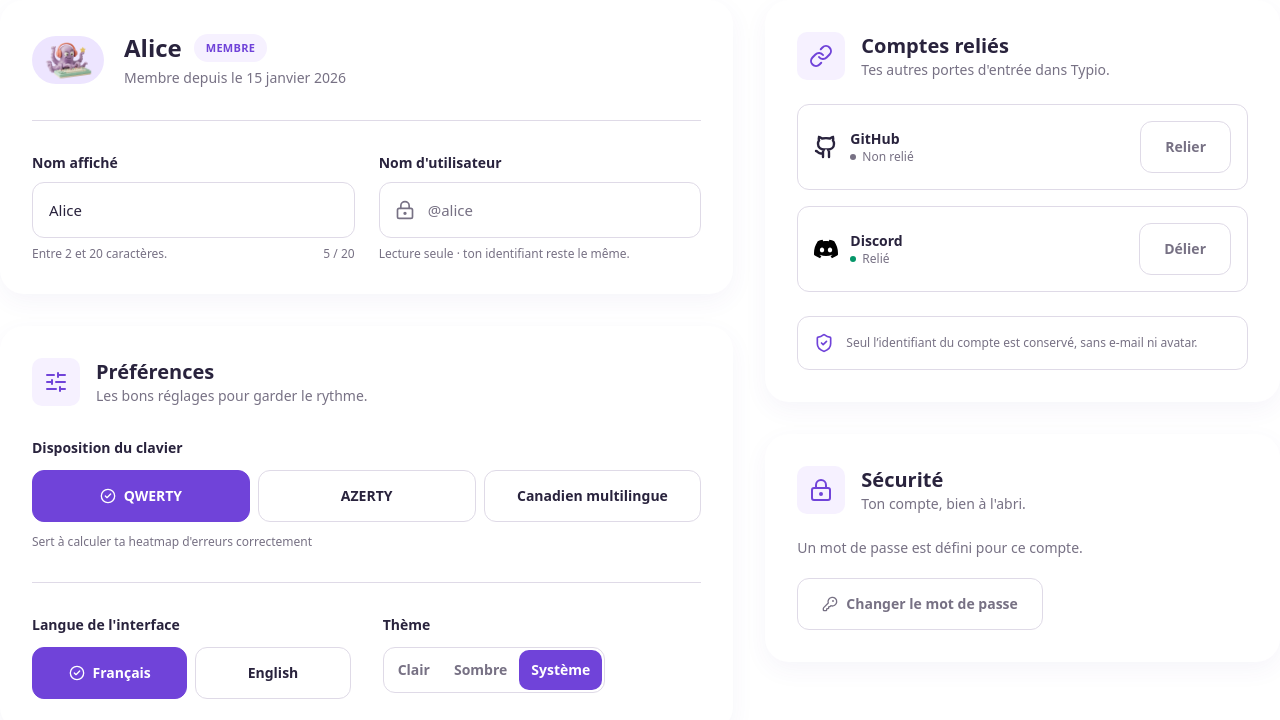
Test case: ProfileForm (fr) › un choix exclusif remplace le précédent (un seul radio coché par groupe)
Click the radio button labelled "AZERTY".
click(367, 496)  # box [258,470,476,522]
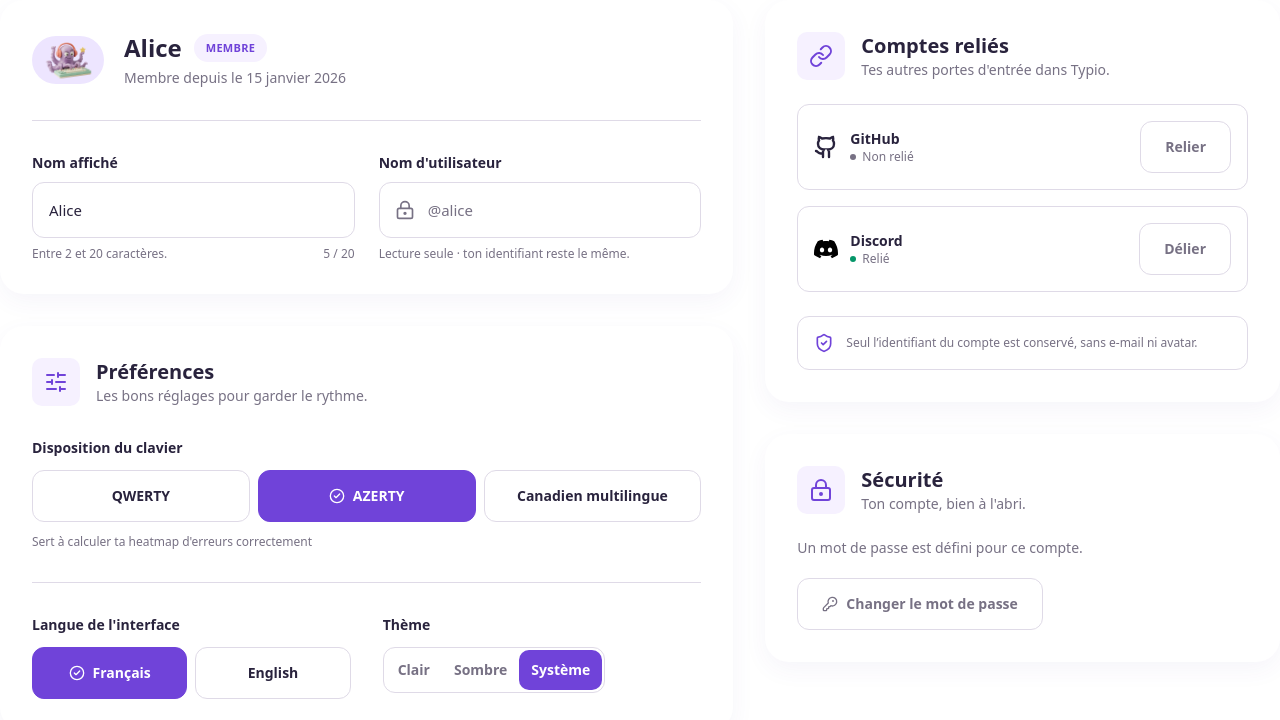
Check: the radio button labelled "AZERTY" is checked, box [258,470,476,522]
Check: the radio button labelled "QWERTY" is not checked, box [32,470,250,522]
